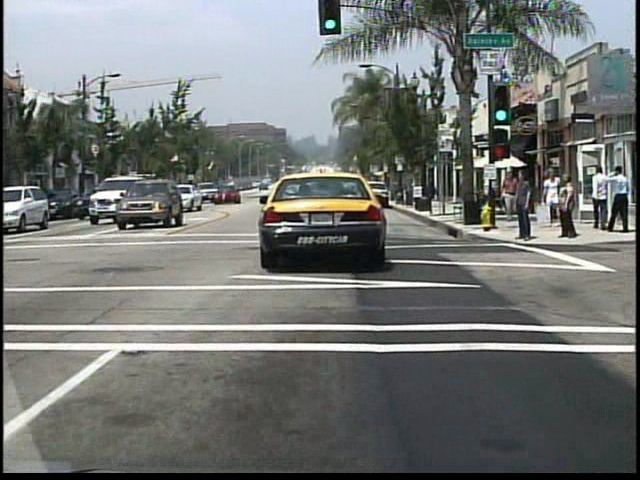person: (602, 166, 630, 234), (516, 169, 536, 242), (562, 173, 582, 240), (588, 162, 607, 231), (541, 169, 562, 229), (501, 171, 519, 223)
